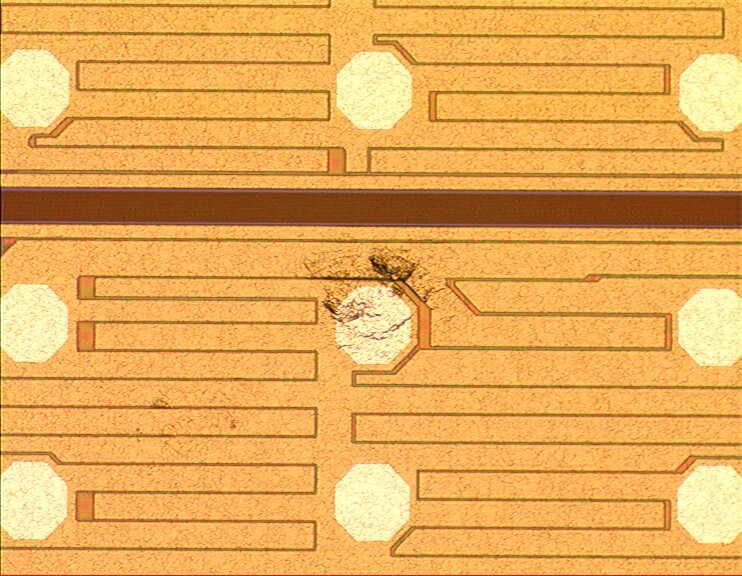SCRATCH: (115, 221, 470, 474)
